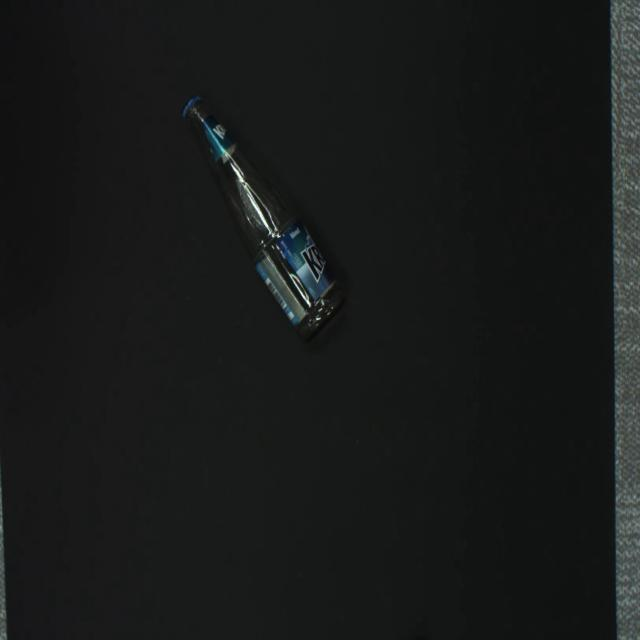beer-bottle: (181, 97, 347, 344)
